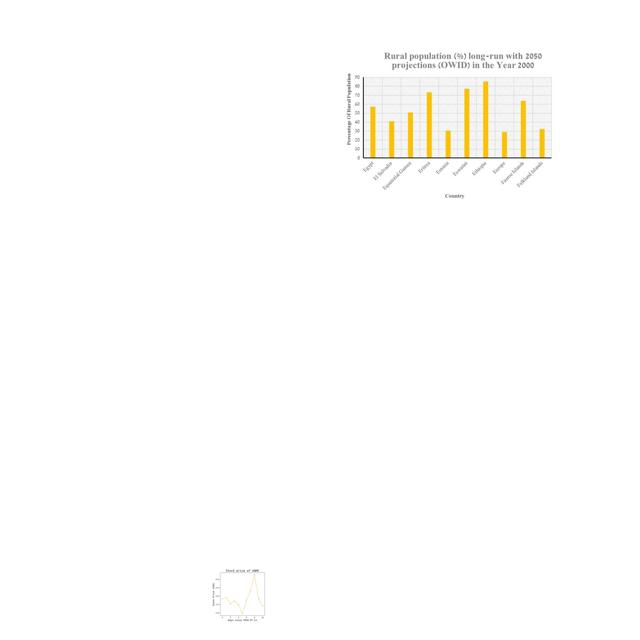Graph: (344, 50, 556, 201), (204, 566, 279, 622)
